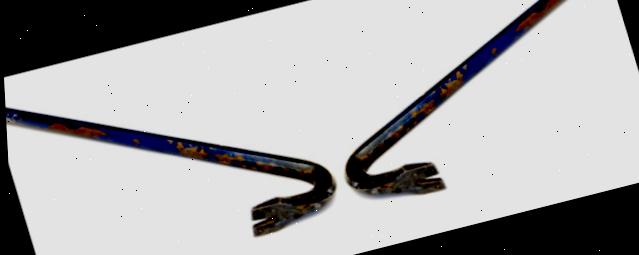crow bar: (0, 5, 344, 255), (290, 0, 639, 224)
